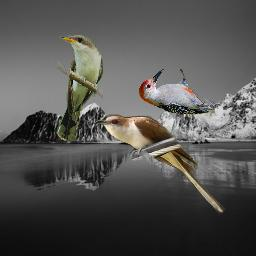Cuckoo: (94, 114, 226, 215), (57, 35, 103, 141)
Woodpecker: (139, 69, 215, 115)
